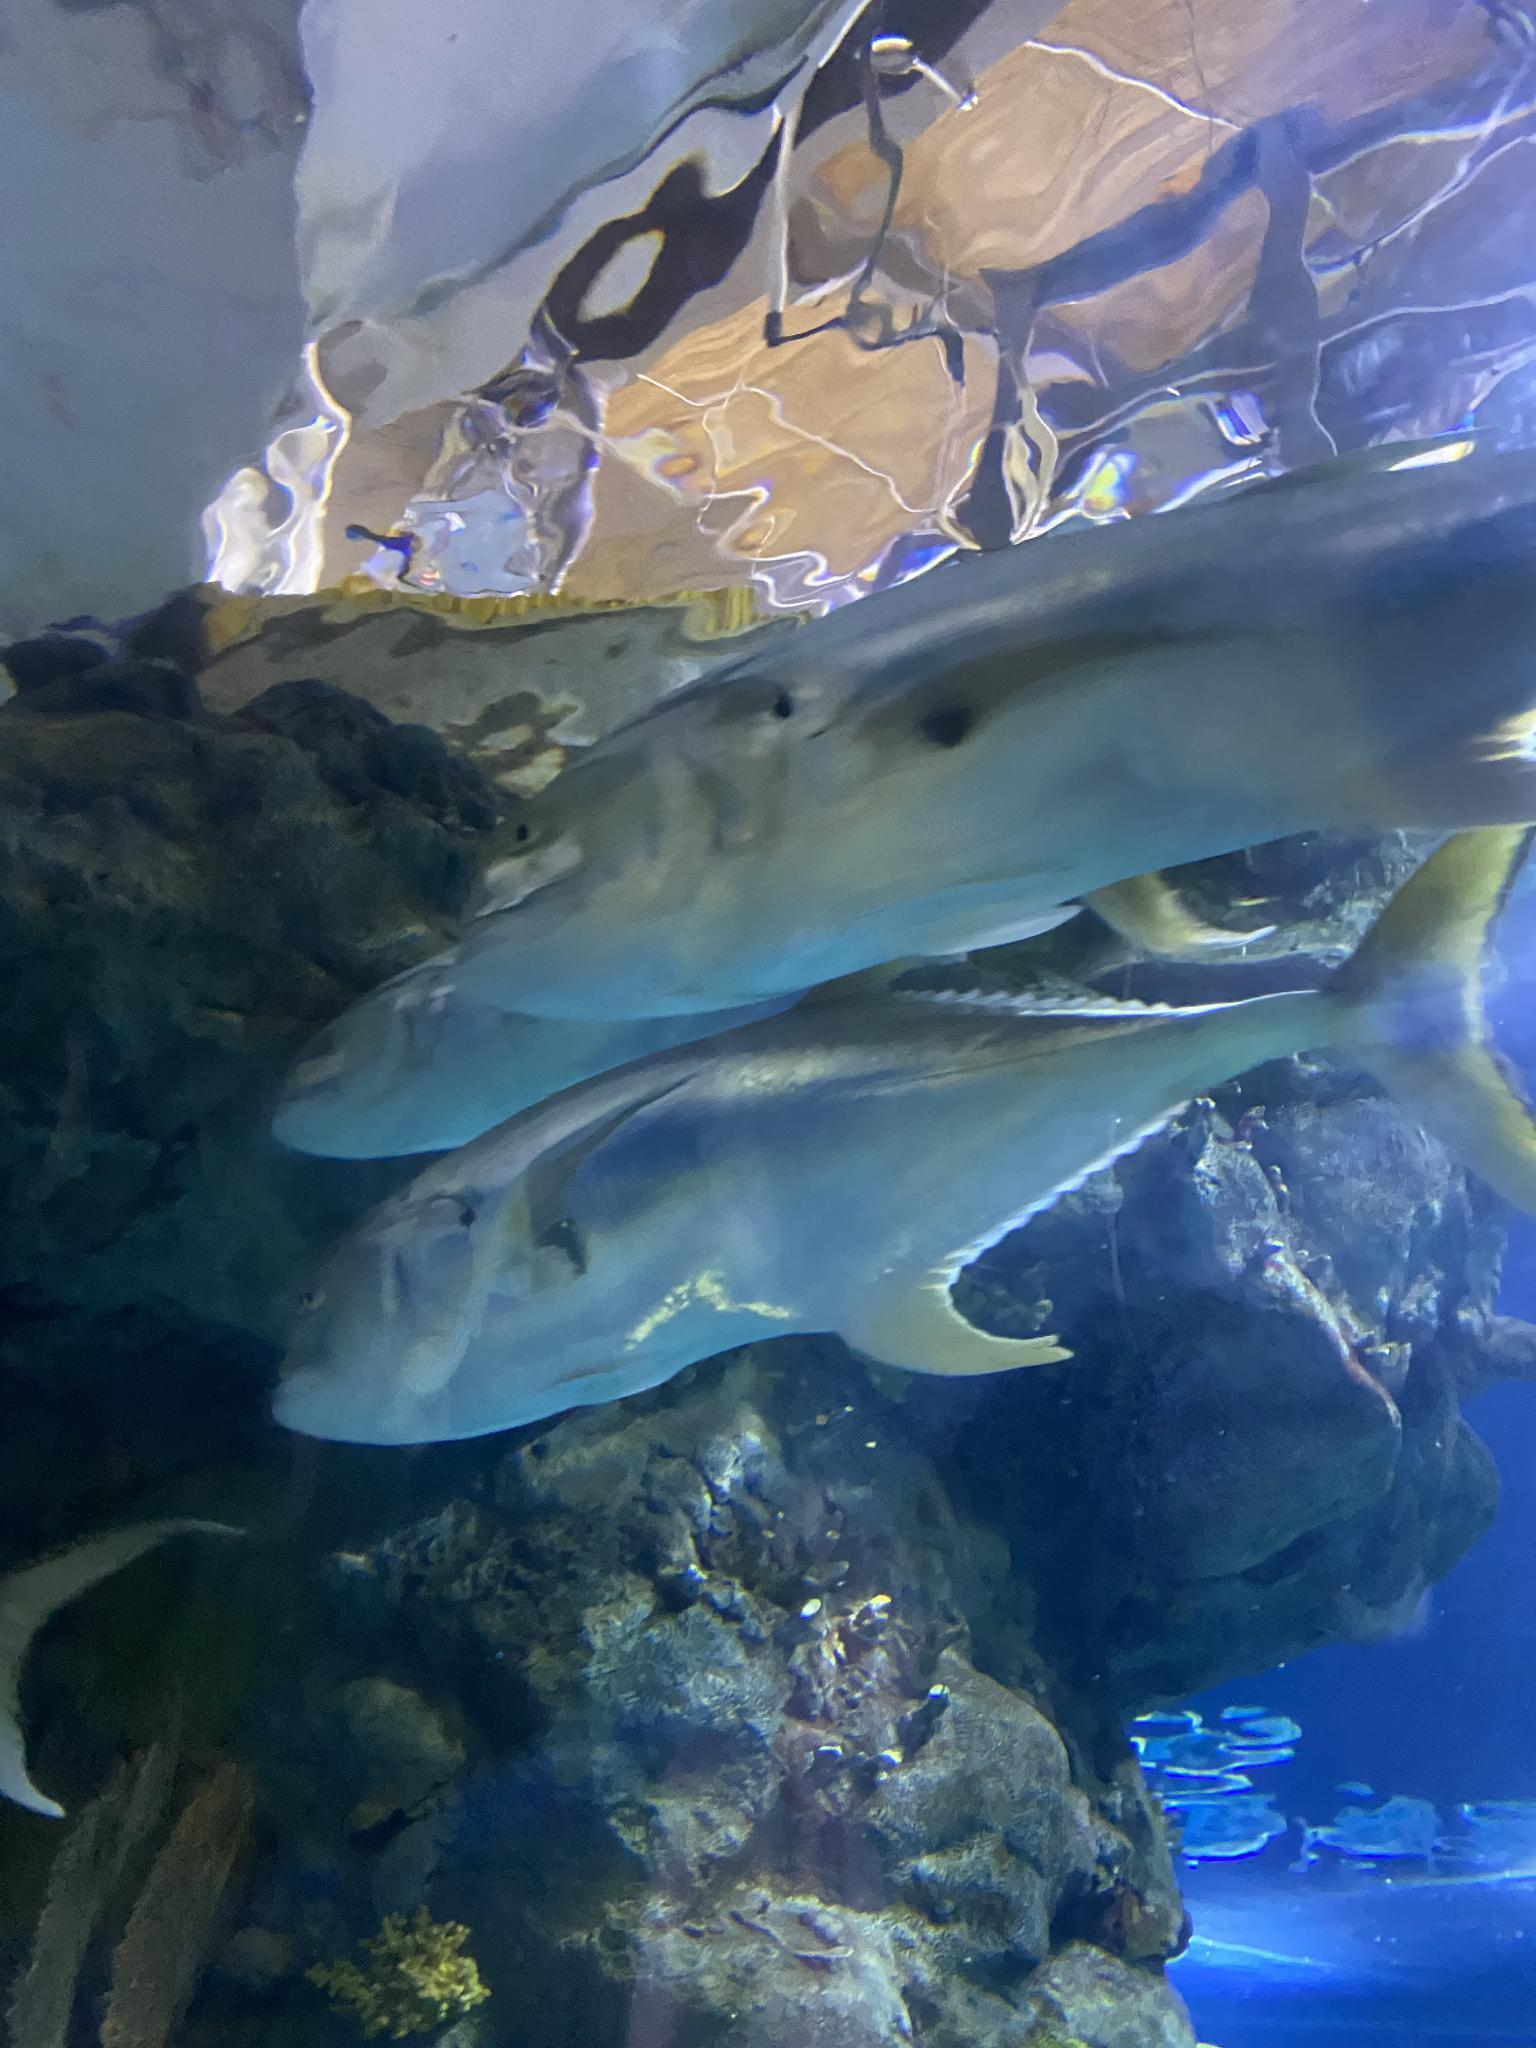fish: (269, 824, 1534, 1450), (453, 427, 1536, 1021), (266, 937, 802, 1163), (0, 1514, 245, 1821)
